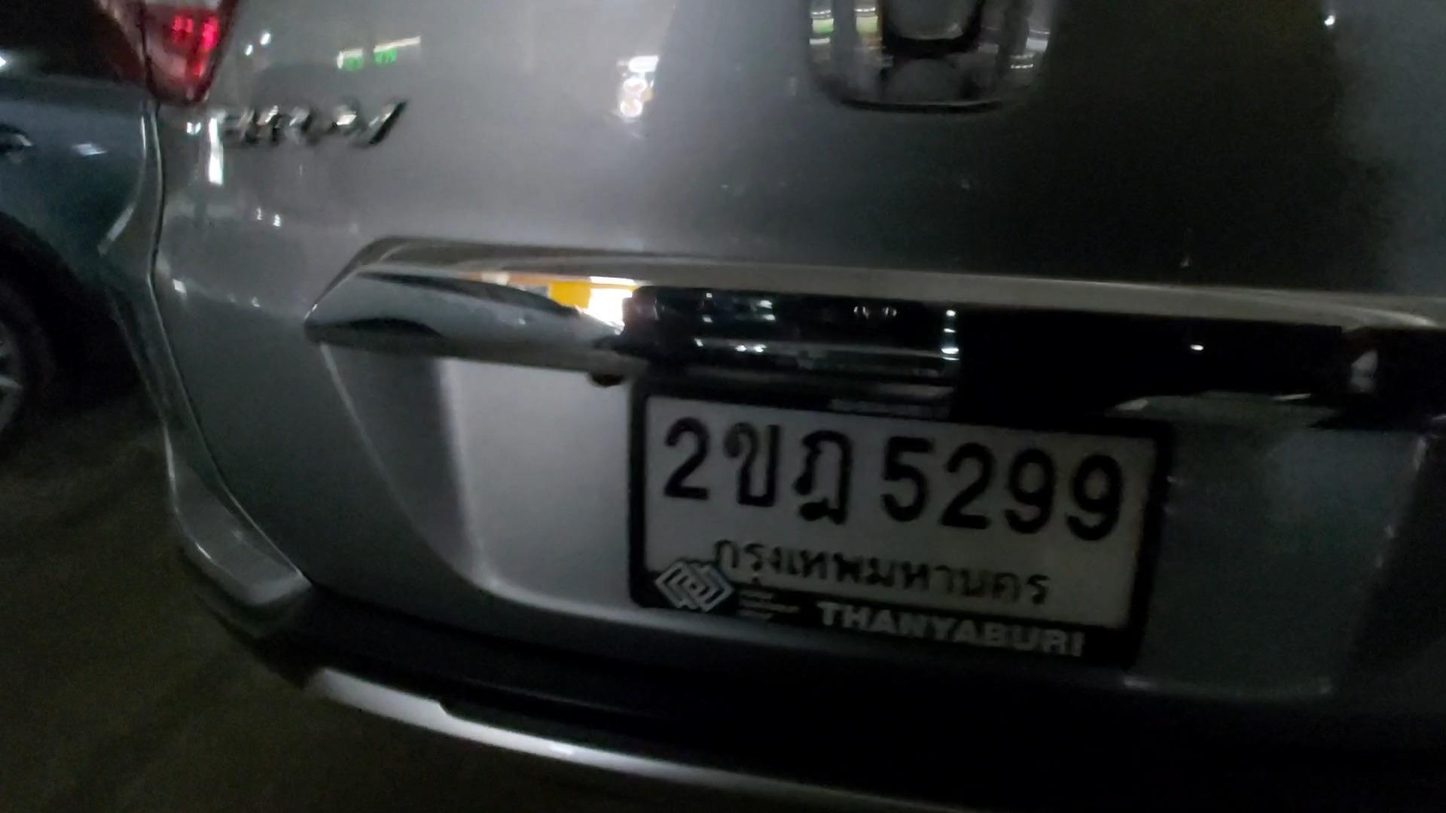license-plate: (646, 395, 1153, 634)
